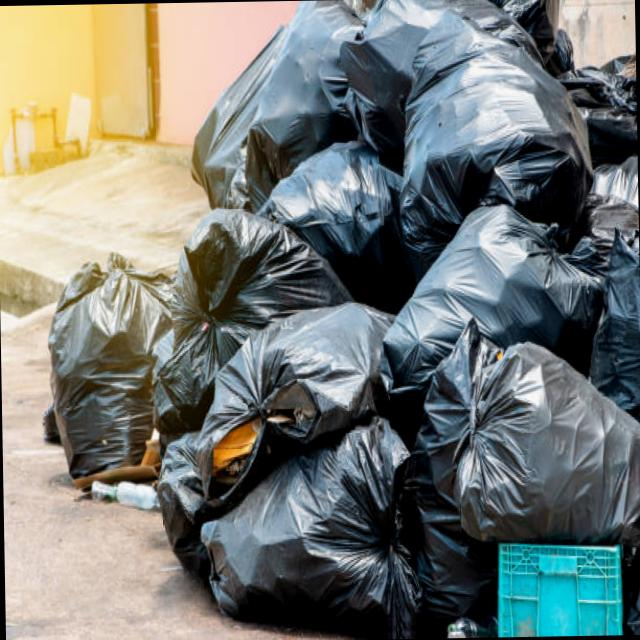garbage: (31, 6, 640, 640)
